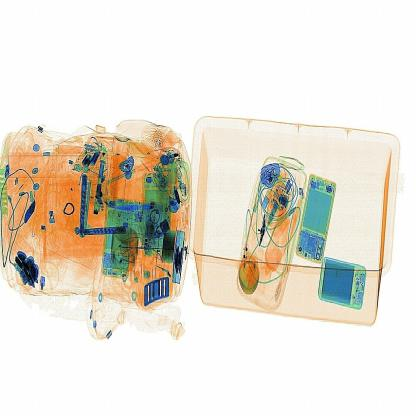pliers: (108, 196, 162, 216)
